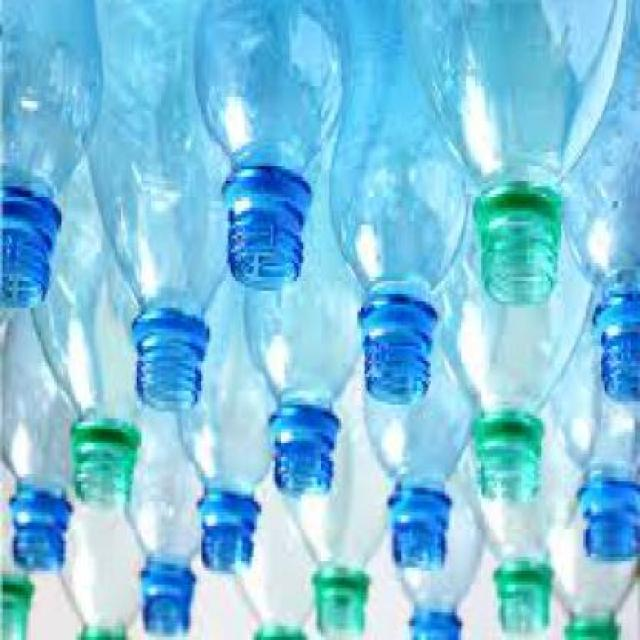PLASTIC: (415, 4, 630, 311), (87, 3, 241, 415), (332, 4, 473, 408), (434, 204, 598, 505), (22, 155, 160, 512), (196, 3, 356, 294), (245, 176, 368, 502), (355, 291, 480, 574), (172, 280, 278, 578), (456, 378, 579, 633), (562, 3, 638, 411), (2, 4, 101, 311), (272, 411, 391, 638), (551, 322, 638, 568), (2, 315, 82, 574), (121, 404, 208, 638), (384, 477, 490, 638), (218, 474, 322, 638), (543, 494, 639, 638), (57, 504, 148, 638), (1, 474, 38, 638)
